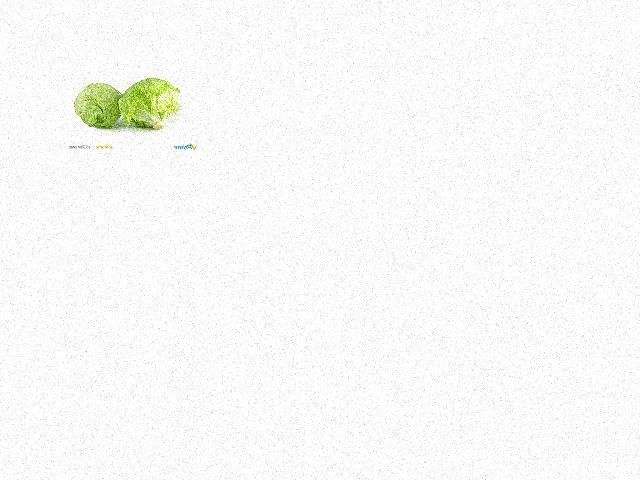lettuce: (72, 82, 136, 138)
